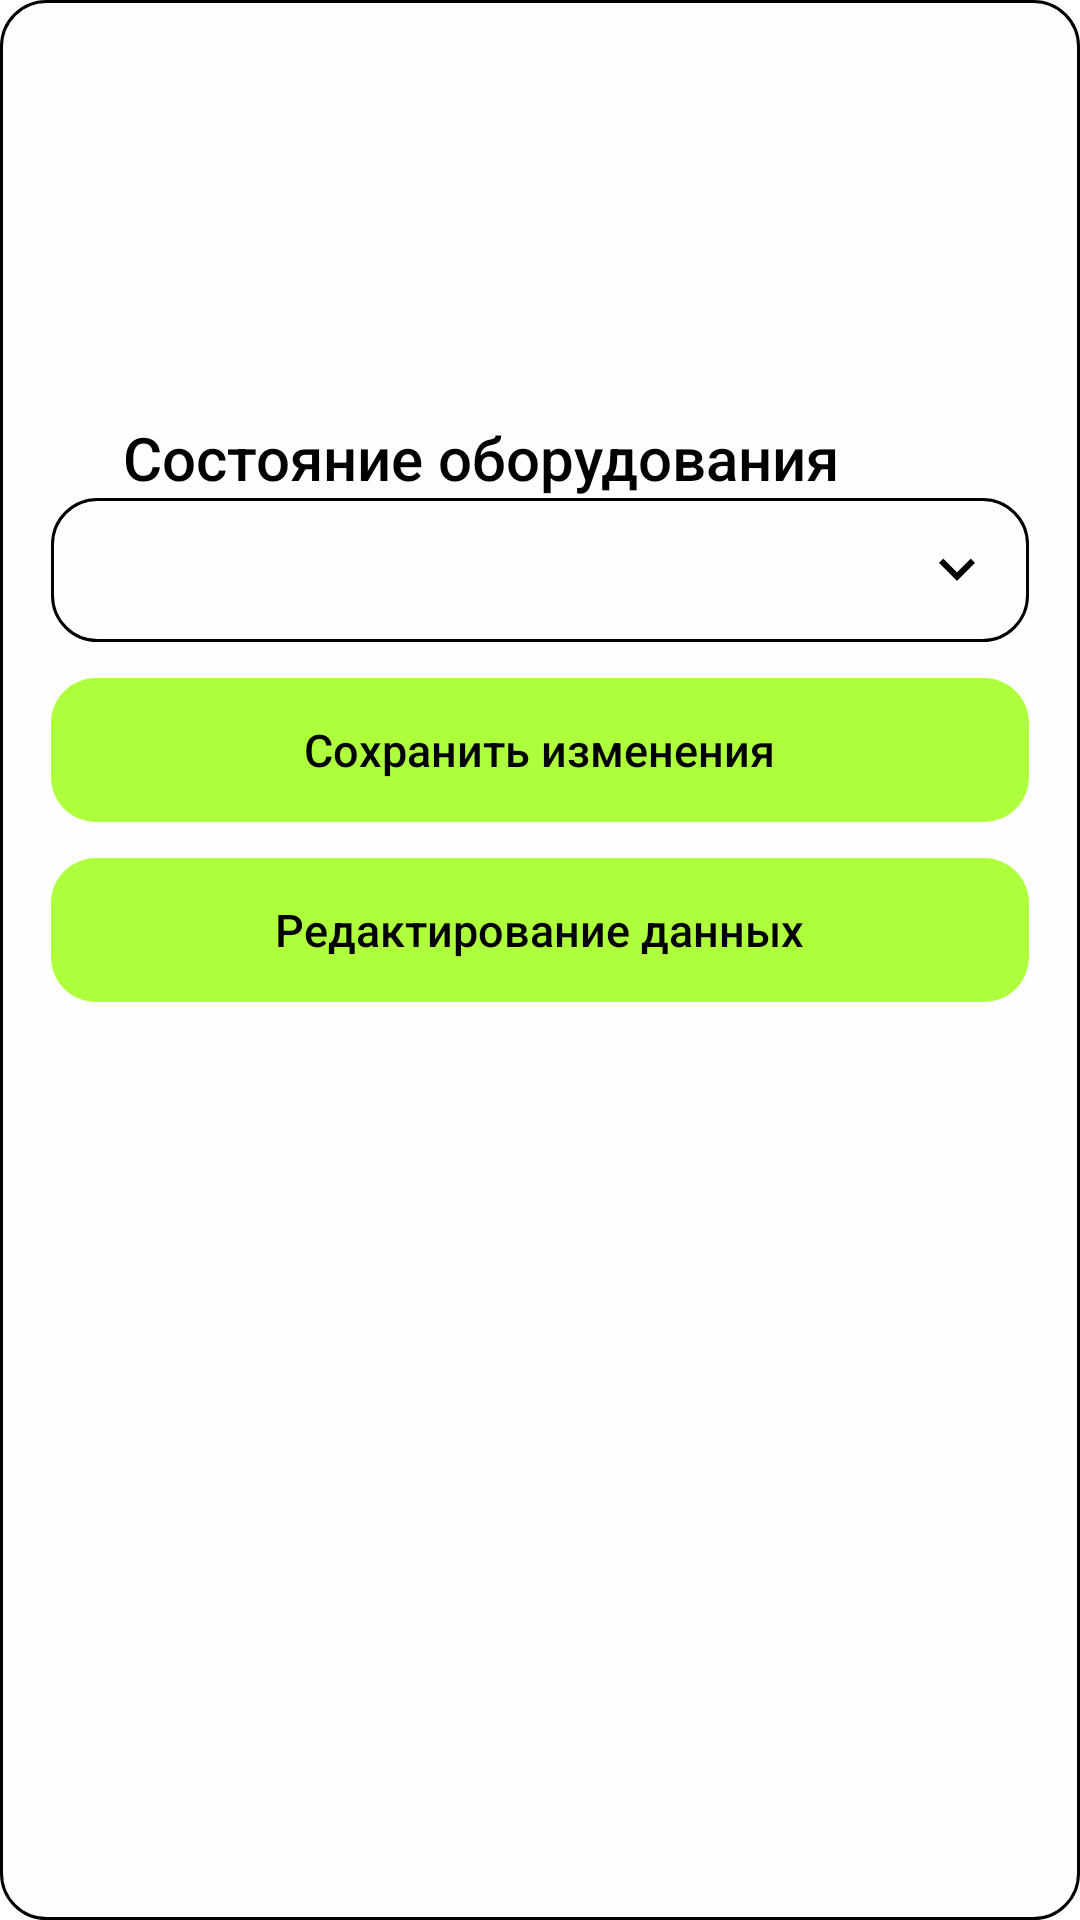

Locate icon controls on the screen. Image size 1080w x 1920h, boxes as bbox(x1, y1, x2, y2).
Стрелка: bbox(939, 558, 975, 581)
